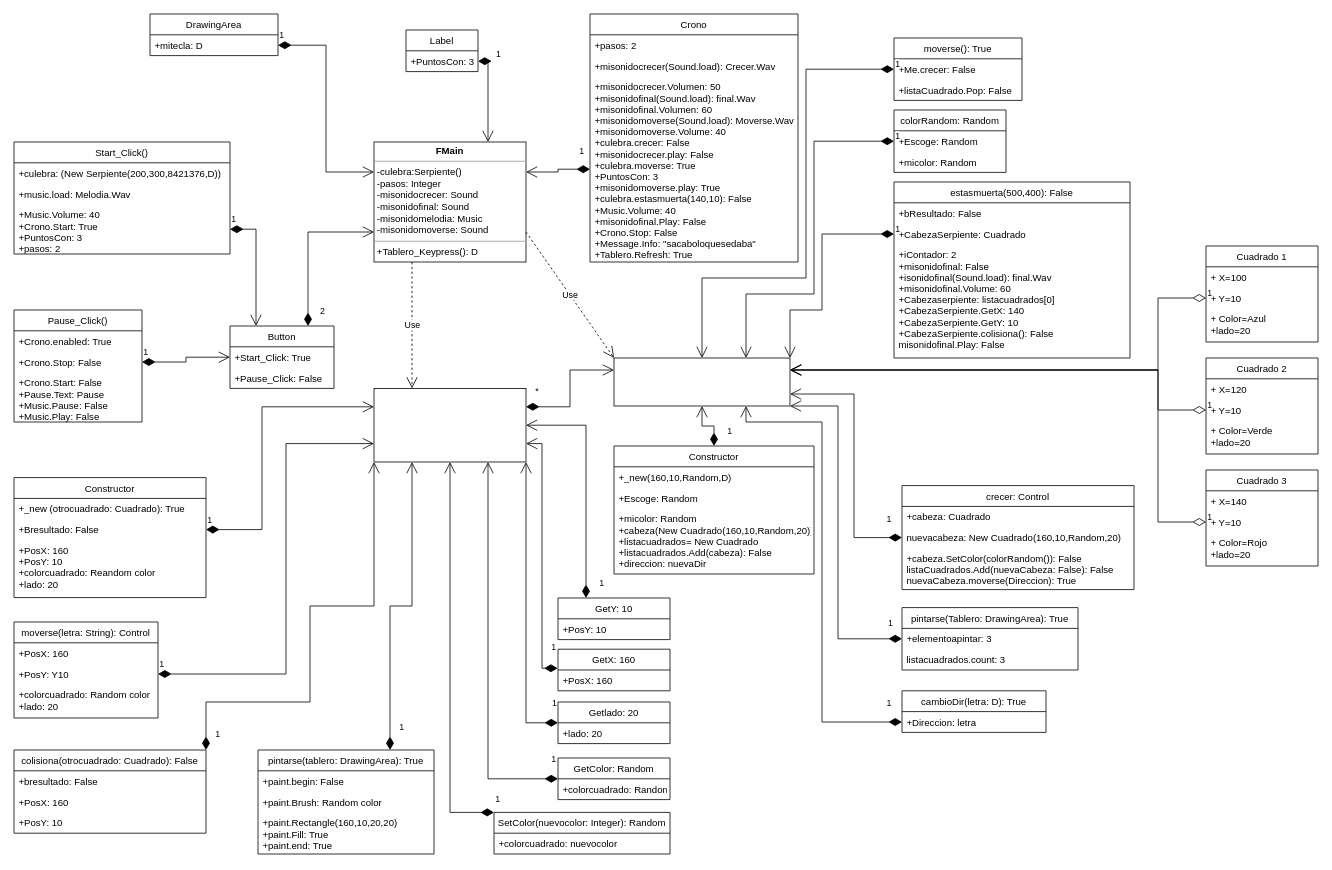
The diagram is 1332 pixels wide and 870 high, and some of its shapes have lost their labels. The shapes that lost their labels are listed below. From the top down, each one's centre as x and y in pixels, then its label:
At point 701,381: "Serpiente -listaCuadrados: Cuadrado[ ] -direccion: D".
At point 449,425: "Cuadrado -colorCuadrado: Random color -lado: 20 -posX: 160 -posY: 10".
